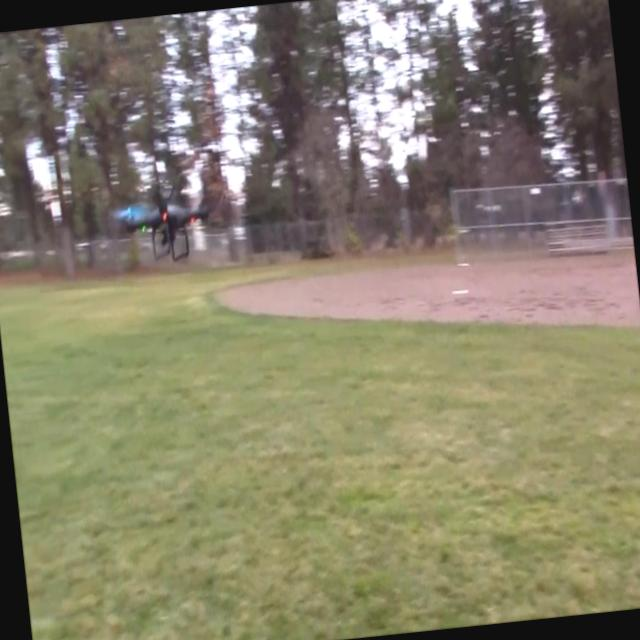drone: (109, 173, 217, 270)
